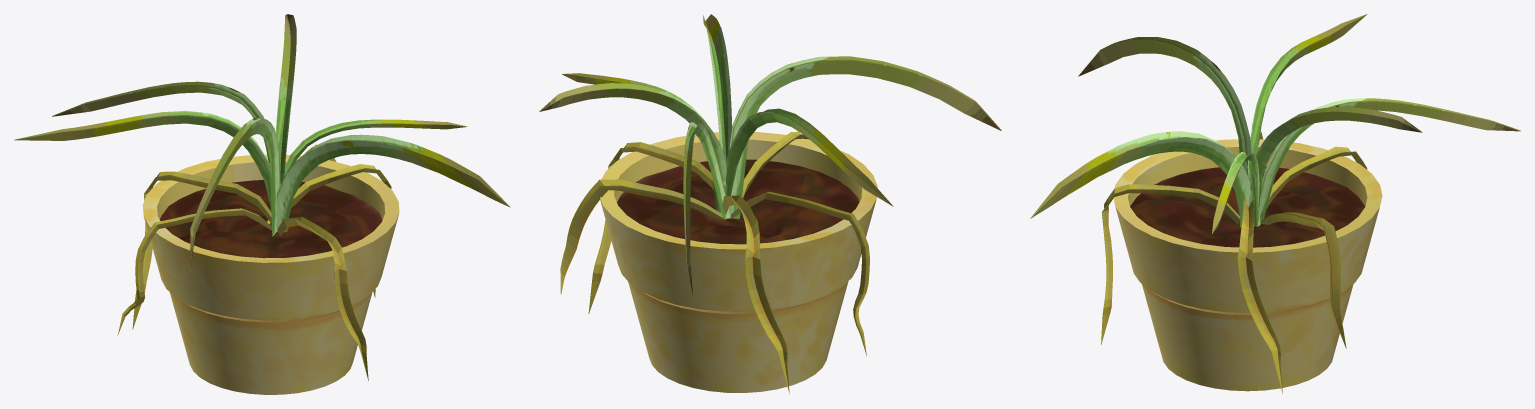
The model's file is Chlorophytum_Horrible_End.glb.
The picture shows the model from 3 angles, left to right: view 1: azimuth 30°, elevation 25°; view 2: azimuth 150°, elevation 25°; view 3: azimuth 270°, elevation 25°; orthographic projection. The views are drawn at different scales.
Parts seen in each view (by area): view 1: Pot, Cube.003; view 2: Pot, Cube.003; view 3: Pot, Cube.003.
Boxes of the visible parts, x1=… form: Pot: x1=142, y1=154, x2=399, y2=394; Cube.003: x1=14, y1=14, x2=510, y2=380; Pot: x1=600, y1=131, x2=877, y2=392; Cube.003: x1=539, y1=14, x2=1001, y2=394; Pot: x1=1113, y1=139, x2=1382, y2=391; Cube.003: x1=1030, y1=14, x2=1520, y2=393.
Bounding box in the file's own units: 3.48 × 2.37 × 3.73.
Materials: 4 (4 with a texture image).
